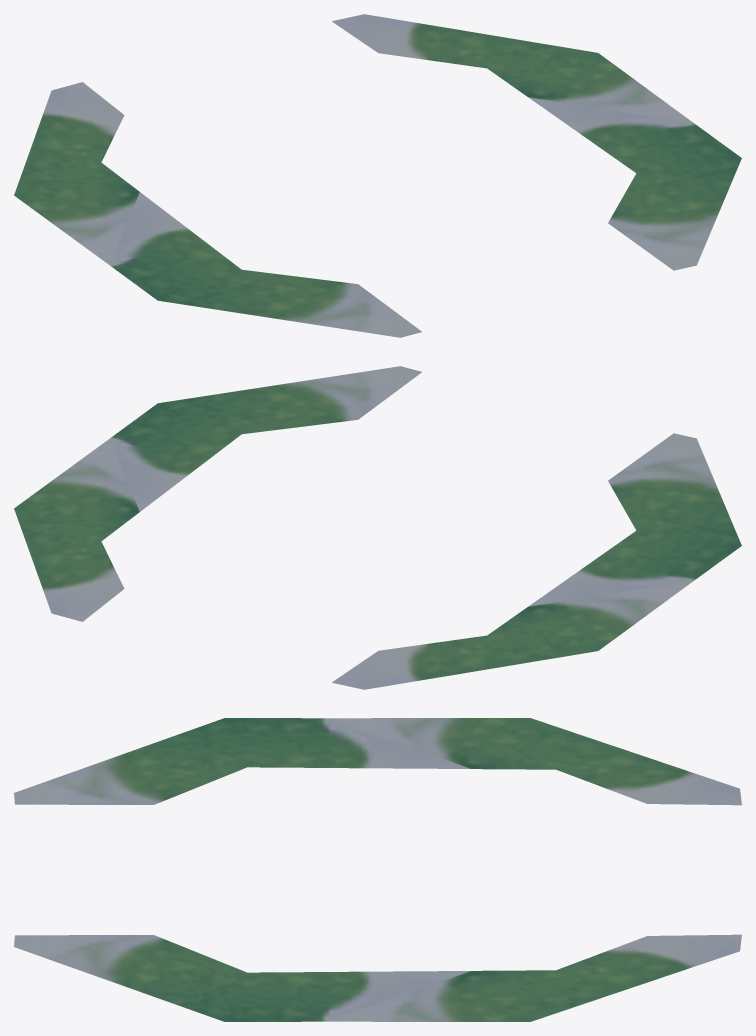
Rendered from pref_sm_city_ramen05e_snow_lv3.fbx.
3 renders of one model, top to bottom at view 1: azimuth 30°, elevation 25°; view 2: azimuth 150°, elevation 25°; view 3: azimuth 270°, elevation 25°, orthographic. The views are drawn at different scales.
Parts seen in each view (by area): view 1: pref_sm_city_ramen05e_snow_lv3; view 2: pref_sm_city_ramen05e_snow_lv3; view 3: pref_sm_city_ramen05e_snow_lv3.
Boxes of the visible parts, <box> form: pref_sm_city_ramen05e_snow_lv3: <box>14,14,741,337</box>; pref_sm_city_ramen05e_snow_lv3: <box>14,366,741,689</box>; pref_sm_city_ramen05e_snow_lv3: <box>14,718,741,1021</box>.
Size of the model in its own units: 9.69 by 4.73e-07 by 9.82.
1 material, 1 textured.
